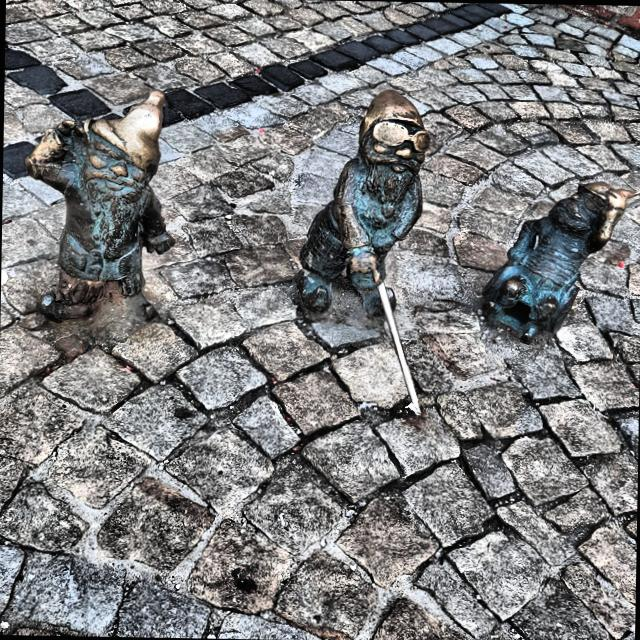Gluchak: (24, 89, 173, 323)
Slepak: (293, 90, 430, 417)
W-Skers: (479, 181, 640, 343)
